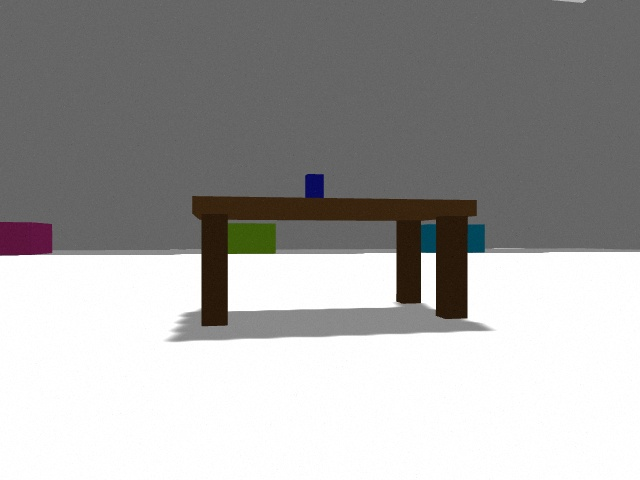blue_cube: (305, 174, 324, 198)
blue_drop_zone: (468, 224, 485, 253), (421, 224, 436, 253)
green_drop_zone: (228, 223, 276, 254)
red_drop_zone: (0, 222, 52, 255)
